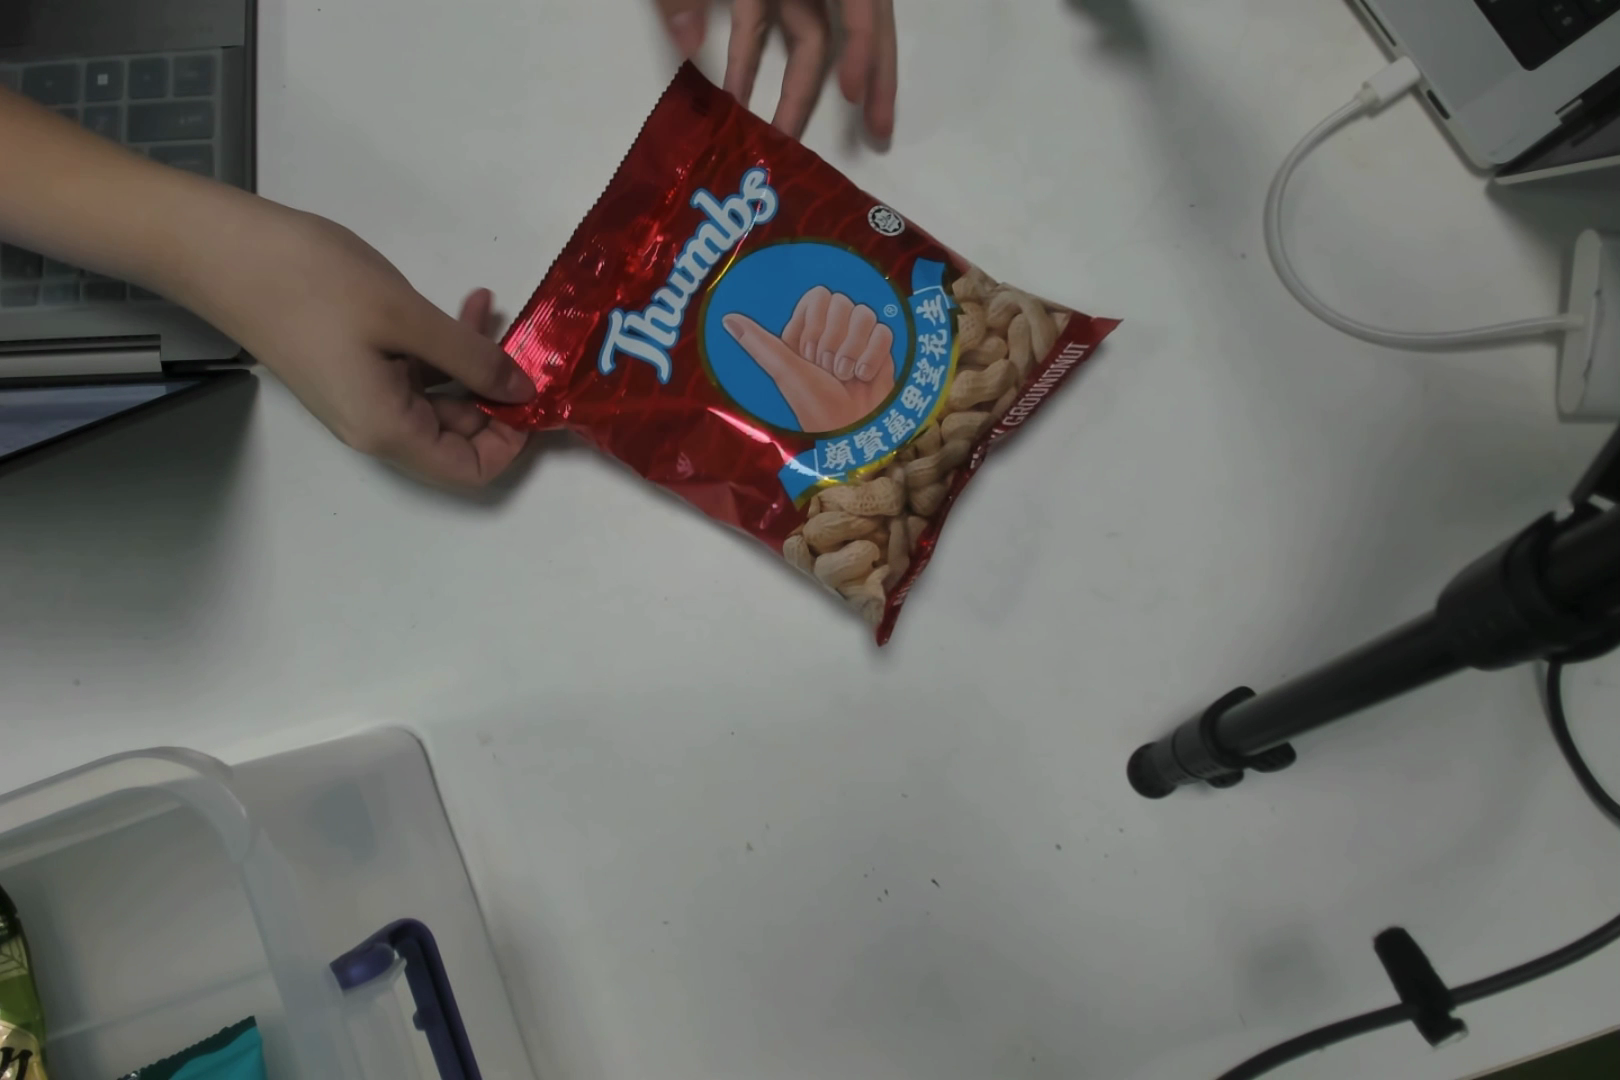Nuts_100-199g_Halal_NonHealthy: (593, 151, 1027, 588)
